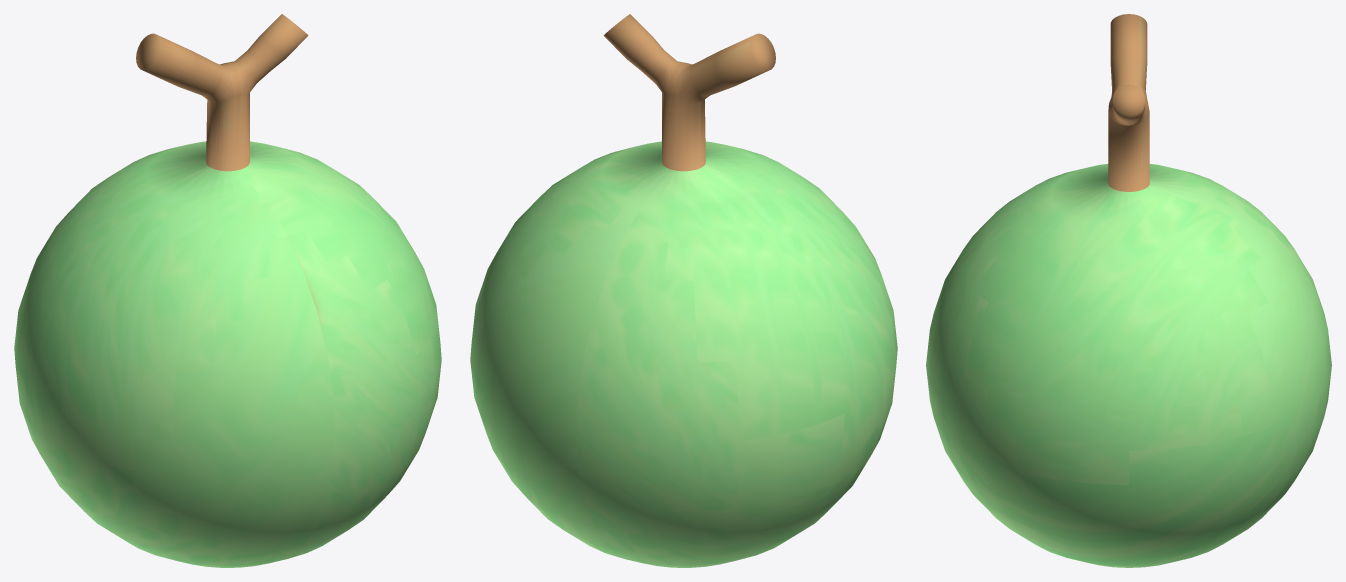
The model's file is melon_model.fbx.
The picture shows the model from 3 angles, left to right: view 1: azimuth 30°, elevation 25°; view 2: azimuth 150°, elevation 25°; view 3: azimuth 270°, elevation 25°; orthographic projection. The views are drawn at different scales.
Parts seen in each view (by area): view 1: Sphere; view 2: Sphere; view 3: Sphere.
Boxes of the visible parts, x1,y1,x2,y2 form: Sphere: (14,14,441,567); Sphere: (470,14,897,567); Sphere: (926,14,1331,567).
Size of the model in its own units: 149 by 203 by 149.
